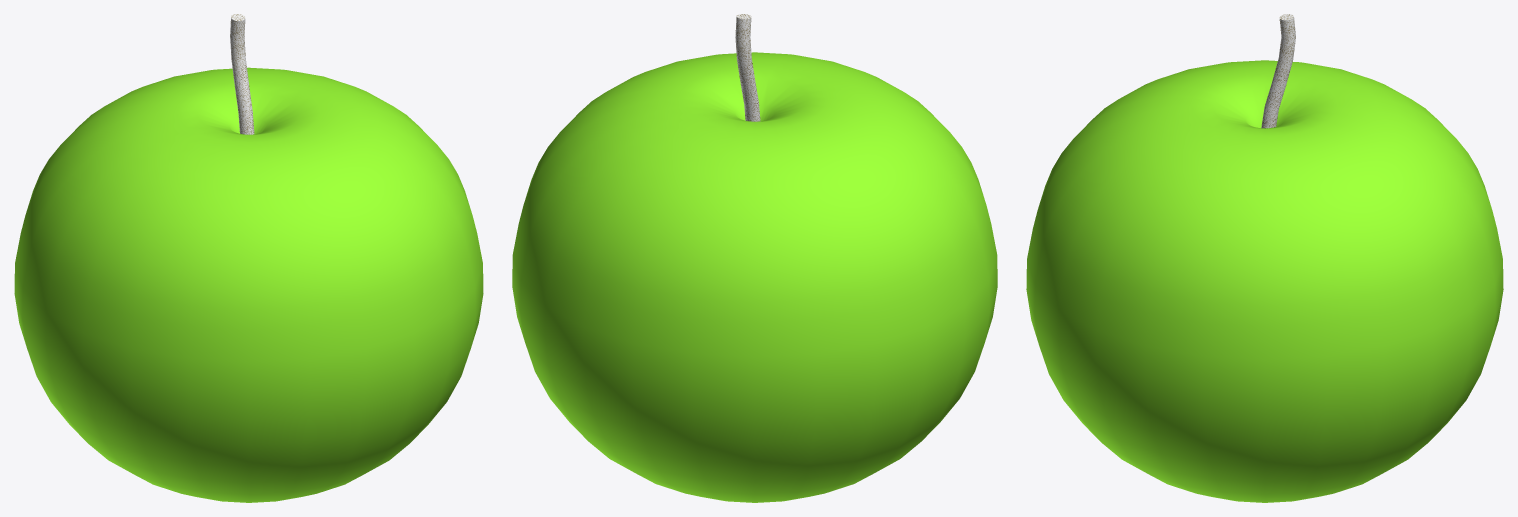
File: GreenApple.dae
The picture shows the model from 3 angles, left to right: view 1: azimuth 30°, elevation 25°; view 2: azimuth 150°, elevation 25°; view 3: azimuth 270°, elevation 25°; orthographic projection. The views are drawn at different scales.
Visible parts, largest first — view 1: apple_1, stem; view 2: apple_1, stem; view 3: apple_1, stem.
Boxes of the visible parts, x1,y1,x2,y2 form: apple_1: [14, 67, 483, 502]; stem: [230, 14, 254, 134]; apple_1: [512, 52, 997, 502]; stem: [735, 14, 760, 121]; apple_1: [1026, 60, 1503, 502]; stem: [1261, 14, 1295, 128].
Bounding box in the file's own units: 2.8 × 2.8 × 2.96.
